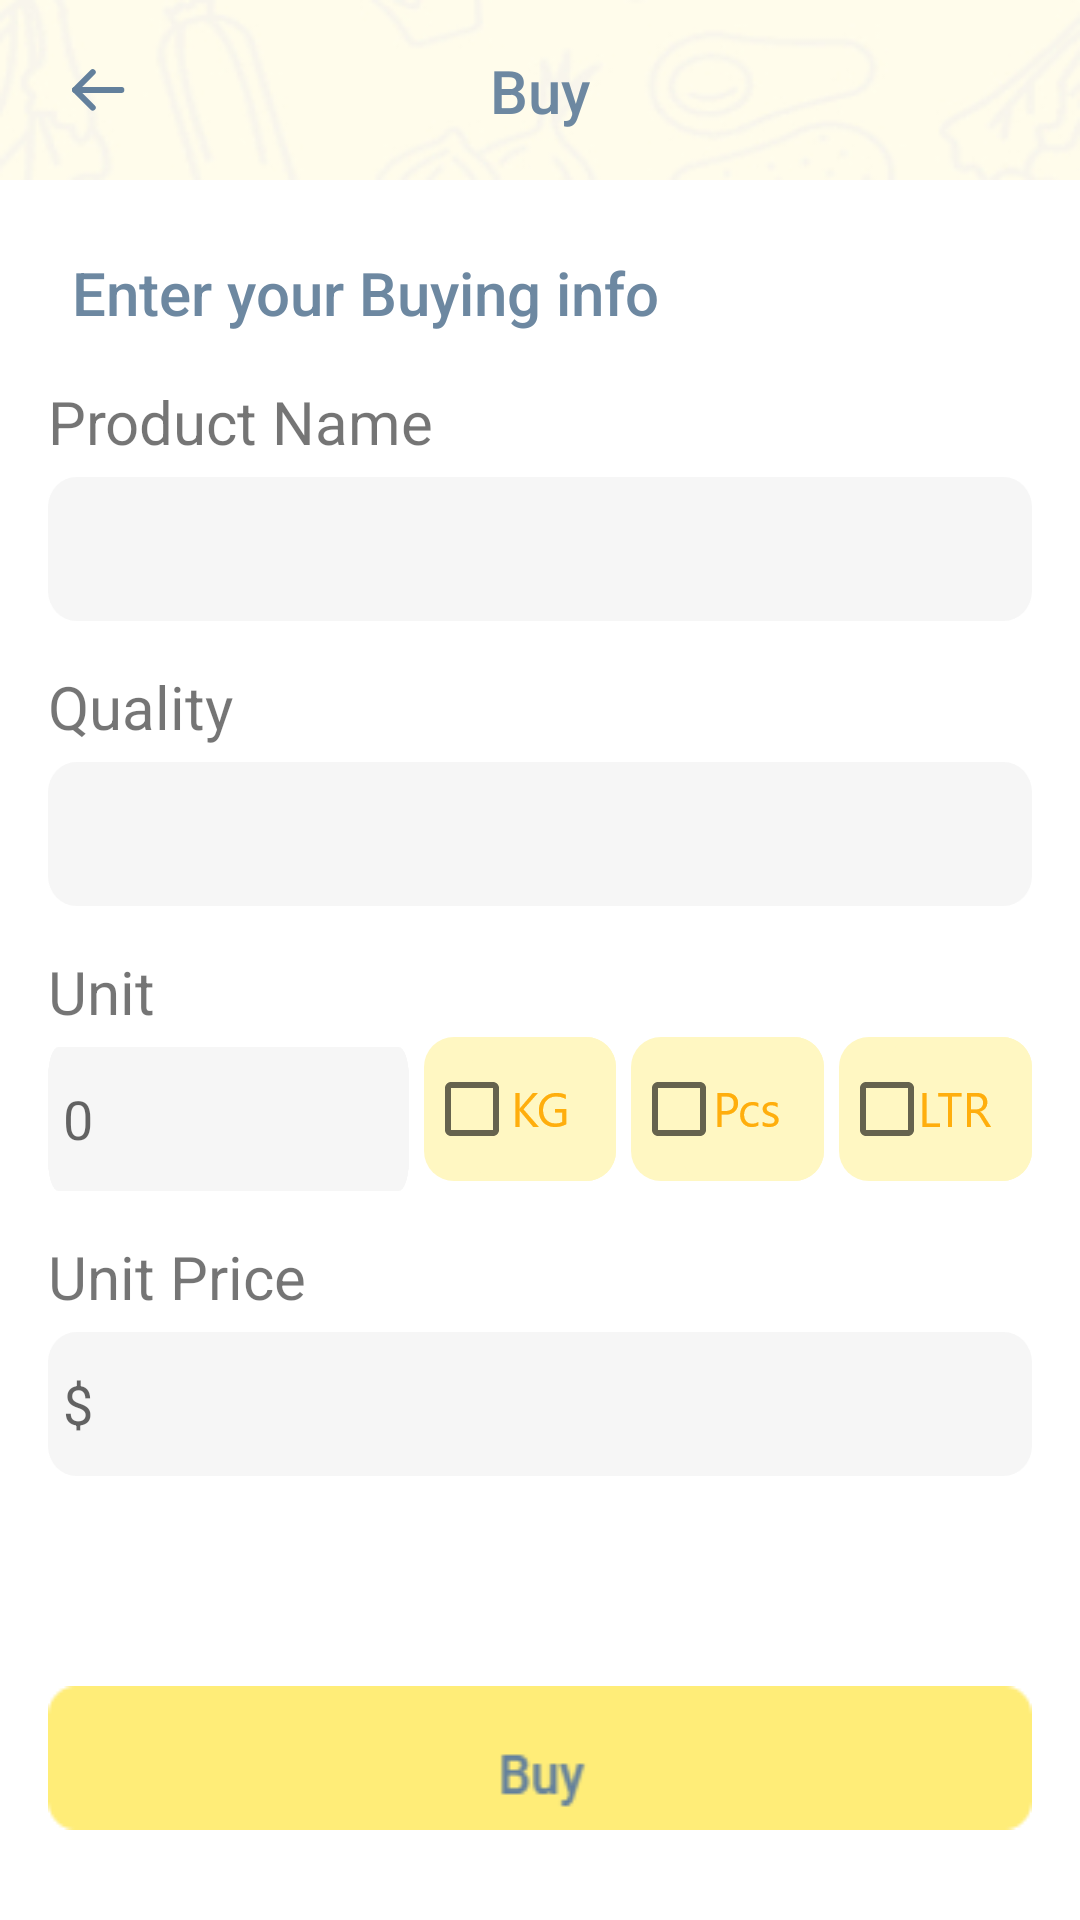

Icons on this 1080 × 1920 Android screen, each with its box as (x1, y1, x2, y2):
back: (72, 69, 125, 111)
